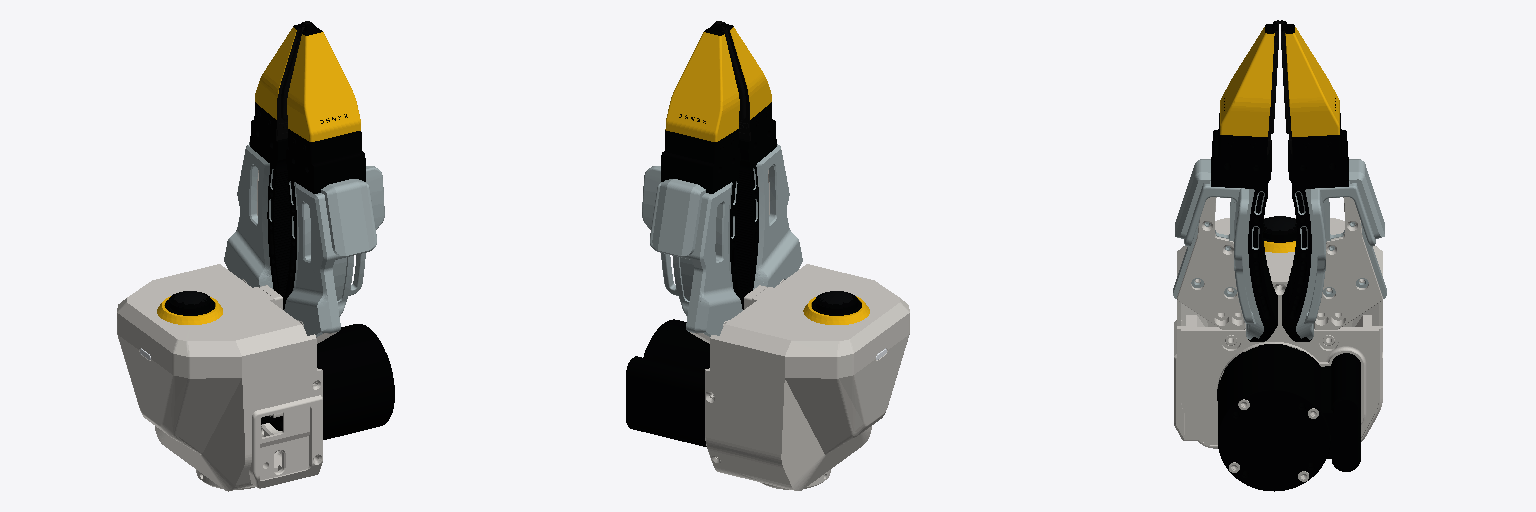
The robot description file, URDF, robot "taccap_g1_slave_with_mount":
<robot name="taccap_g1_slave_with_mount">
  <!-- Generated by scripts/generate_models.py; edit Xacro/config sources instead. -->
  <material name="taccap_silver">
    <color rgba="0.82 0.81 0.79 1" />
  </material>
  <material name="taccap_cover">
    <color rgba="0.65 0.7 0.71 1" />
  </material>
  <material name="taccap_black">
    <color rgba="0.018 0.02 0.022 1" />
  </material>
  <material name="taccap_yellow">
    <color rgba="0.95 0.72 0.07 1" />
  </material>
  <material name="taccap_gel">
    <color rgba="0.055 0.055 0.055 1" />
  </material>
  <material name="taccap_lens">
    <color rgba="0.05 0.055 0.06 0.62" />
  </material>
  <material name="taccap_light">
    <color rgba="0.92 0.94 0.96 0.85" />
  </material>
  <link name="taccap_base_link">
    <inertial>
      <origin rpy="0 0 0" xyz="0.00055404 -0.0011065 0.03389788000000001" />
      <mass value="0.153" />
      <inertia ixx="0.0001662522337781271" ixy="5.051220230199417e-07" ixz="1.023875307549503e-05" iyy="0.000126891433023779" iyz="-1.820980122271716e-06" izz="0.0001290344694980937" />
    </inertial>
    <visual name="body_link_visual_silver">
      <origin rpy="-0 -1.570796326794897 0" xyz="0.01975 -0.0060769 0.034023" />
      <geometry>
        <mesh filename="../meshes/body_link__silver.STL" />
      </geometry>
      <material name="taccap_silver" />
    </visual>
    <visual name="body_link_visual_black">
      <origin rpy="-0 -1.570796326794897 0" xyz="0.01975 -0.0060769 0.034023" />
      <geometry>
        <mesh filename="../meshes/body_link__black.STL" />
      </geometry>
      <material name="taccap_black" />
    </visual>
    <visual name="body_link_visual_yellow">
      <origin rpy="-0 -1.570796326794897 0" xyz="0.01975 -0.0060769 0.034023" />
      <geometry>
        <mesh filename="../meshes/body_link__yellow.STL" />
      </geometry>
      <material name="taccap_yellow" />
    </visual>
    <visual name="body_link_visual_light">
      <origin rpy="-0 -1.570796326794897 0" xyz="0.01975 -0.0060769 0.034023" />
      <geometry>
        <mesh filename="../meshes/body_link__light.STL" />
      </geometry>
      <material name="taccap_light" />
    </visual>
    <collision name="body_link_collision">
      <origin rpy="-0 -1.570796326794897 0" xyz="0.01975 -0.0060769 0.034023" />
      <geometry>
        <mesh filename="../meshes/collision/body_link.stl" />
      </geometry>
    </collision>
  </link>
  <link name="taccap_motor_link">
    <inertial>
      <origin rpy="0 0 0" xyz="0.03743085 -0.00109355 0.02554797" />
      <mass value="0.299" />
      <inertia ixx="2.530466922324684e-05" ixy="-2.027952739115101e-06" ixz="-1.239938363961379e-07" iyy="4.01613260249333e-05" iyz="-7.393526076882528e-07" izz="4.954026835181985e-05" />
    </inertial>
    <visual name="motor_link_visual_silver">
      <origin rpy="-0 -1.570796326794897 0" xyz="0.01975 -0.0060769 0.034023" />
      <geometry>
        <mesh filename="../meshes/motor_link__silver.STL" />
      </geometry>
      <material name="taccap_silver" />
    </visual>
    <visual name="motor_link_visual_black">
      <origin rpy="-0 -1.570796326794897 0" xyz="0.01975 -0.0060769 0.034023" />
      <geometry>
        <mesh filename="../meshes/motor_link__black.STL" />
      </geometry>
      <material name="taccap_black" />
    </visual>
    <collision name="motor_link_collision">
      <origin rpy="-0 -1.570796326794897 0" xyz="0.01975 -0.0060769 0.034023" />
      <geometry>
        <mesh filename="../meshes/collision/motor_link.stl" />
      </geometry>
    </collision>
  </link>
  <link name="taccap_left_finger_link">
    <inertial>
      <origin rpy="0 0 0" xyz="0.0140949482 -0.00330133312635219 0.04838757908594267" />
      <mass value="0.14" />
      <inertia ixx="0.0003065325738824327" ixy="1.304843016703693e-06" ixz="-6.577075277330767e-05" iyy="0.0003222085257195986" iyz="7.713878953415112e-06" izz="3.792830299796826e-05" />
    </inertial>
    <visual name="left_link_visual_silver">
      <origin rpy="1.570796326794894 -1.513048197635941 -1.570796326794894" xyz="1.776356839400251e-18 0 0" />
      <geometry>
        <mesh filename="../meshes/left_link__silver.STL" />
      </geometry>
      <material name="taccap_silver" />
    </visual>
    <visual name="left_link_visual_cover">
      <origin rpy="1.570796326794894 -1.513048197635941 -1.570796326794894" xyz="1.776356839400251e-18 0 0" />
      <geometry>
        <mesh filename="../meshes/left_link__cover.STL" />
      </geometry>
      <material name="taccap_cover" />
    </visual>
    <visual name="left_link_visual_black">
      <origin rpy="1.570796326794894 -1.513048197635941 -1.570796326794894" xyz="1.776356839400251e-18 0 0" />
      <geometry>
        <mesh filename="../meshes/left_link__black.STL" />
      </geometry>
      <material name="taccap_black" />
    </visual>
    <visual name="left_link_visual_yellow">
      <origin rpy="1.570796326794894 -1.513048197635941 -1.570796326794894" xyz="1.776356839400251e-18 0 0" />
      <geometry>
        <mesh filename="../meshes/left_link__yellow.STL" />
      </geometry>
      <material name="taccap_yellow" />
    </visual>
    <visual name="left_link_visual_gel">
      <origin rpy="1.570796326794894 -1.513048197635941 -1.570796326794894" xyz="1.776356839400251e-18 0 0" />
      <geometry>
        <mesh filename="../meshes/left_link__gel.STL" />
      </geometry>
      <material name="taccap_gel" />
    </visual>
    <visual name="left_link_visual_print">
      <origin rpy="1.570796326794894 -1.513048197635941 -1.570796326794894" xyz="1.776356839400251e-18 0 0" />
      <geometry>
        <mesh filename="../meshes/left_link_silkscreen.STL" />
      </geometry>
      <material name="taccap_black" />
    </visual>
    <collision name="left_link_collision">
      <origin rpy="1.570796326794894 -1.513048197635941 -1.570796326794894" xyz="1.776356839400251e-18 0 0" />
      <geometry>
        <mesh filename="../meshes/collision/left_link.stl" />
      </geometry>
    </collision>
  </link>
  <link name="taccap_right_finger_link">
    <inertial>
      <origin rpy="0 0 0" xyz="0.0140399882 0.003278948264701973 0.04829841241419621" />
      <mass value="0.14" />
      <inertia ixx="0.0003063018651248454" ixy="-1.332880396949135e-06" ixz="-6.566639014047093e-05" iyy="0.0003219105627972025" iyz="-7.90572760751648e-06" izz="3.79806639779513e-05" />
    </inertial>
    <visual name="right_link_visual_silver">
      <origin rpy="-1.570796326794894 -1.513048197635941 1.570796326794894" xyz="1.776356839400251e-18 0 0" />
      <geometry>
        <mesh filename="../meshes/right_link__silver.STL" />
      </geometry>
      <material name="taccap_silver" />
    </visual>
    <visual name="right_link_visual_cover">
      <origin rpy="-1.570796326794894 -1.513048197635941 1.570796326794894" xyz="1.776356839400251e-18 0 0" />
      <geometry>
        <mesh filename="../meshes/right_link__cover.STL" />
      </geometry>
      <material name="taccap_cover" />
    </visual>
    <visual name="right_link_visual_black">
      <origin rpy="-1.570796326794894 -1.513048197635941 1.570796326794894" xyz="1.776356839400251e-18 0 0" />
      <geometry>
        <mesh filename="../meshes/right_link__black.STL" />
      </geometry>
      <material name="taccap_black" />
    </visual>
    <visual name="right_link_visual_yellow">
      <origin rpy="-1.570796326794894 -1.513048197635941 1.570796326794894" xyz="1.776356839400251e-18 0 0" />
      <geometry>
        <mesh filename="../meshes/right_link__yellow.STL" />
      </geometry>
      <material name="taccap_yellow" />
    </visual>
    <visual name="right_link_visual_gel">
      <origin rpy="-1.570796326794894 -1.513048197635941 1.570796326794894" xyz="1.776356839400251e-18 0 0" />
      <geometry>
        <mesh filename="../meshes/right_link__gel.STL" />
      </geometry>
      <material name="taccap_gel" />
    </visual>
    <visual name="right_link_visual_print">
      <origin rpy="-1.570796326794894 -1.513048197635941 1.570796326794894" xyz="1.776356839400251e-18 0 0" />
      <geometry>
        <mesh filename="../meshes/right_link_silkscreen.STL" />
      </geometry>
      <material name="taccap_black" />
    </visual>
    <collision name="right_link_collision">
      <origin rpy="-1.570796326794894 -1.513048197635941 1.570796326794894" xyz="1.776356839400251e-18 0 0" />
      <geometry>
        <mesh filename="../meshes/collision/right_link.stl" />
      </geometry>
    </collision>
  </link>
  <link name="taccap_camera_body_link">
    <inertial>
      <origin rpy="0 0 0" xyz="-0.02305604 9.135000000000001e-05 0.06677412000000001" />
      <mass value="0.018" />
      <inertia ixx="2.08279730304444e-06" ixy="2.468185608919793e-08" ixz="-6.715076777008704e-08" iyy="2.153388567352938e-06" iyz="1.990738215085462e-08" izz="1.83083202960262e-06" />
    </inertial>
    <visual name="camera_link_visual_black">
      <origin rpy="-0 -1.570796326794897 0" xyz="0.01975 -0.0060769 0.034023" />
      <geometry>
        <mesh filename="../meshes/camera_link__black.STL" />
      </geometry>
      <material name="taccap_black" />
    </visual>
    <visual name="camera_link_visual_lens">
      <origin rpy="-0 -1.570796326794897 0" xyz="0.01975 -0.0060769 0.034023" />
      <geometry>
        <mesh filename="../meshes/camera_link__lens.STL" />
      </geometry>
      <material name="taccap_lens" />
    </visual>
    <collision name="camera_link_collision">
      <origin rpy="-0 -1.570796326794897 0" xyz="0.01975 -0.0060769 0.034023" />
      <geometry>
        <mesh filename="../meshes/camera_link.STL" />
      </geometry>
    </collision>
  </link>
  <link name="taccap_mount_link">
    <inertial>
      <origin rpy="0 0 0" xyz="0 0 0.00489788" />
      <mass value="0.035" />
      <inertia ixx="8.044150799999998e-06" ixy="1.145205007058267e-21" ixz="0" iyy="8.044150800000001e-06" iyz="0" izz="1.52699406e-05" />
    </inertial>
    <visual name="flange_link_visual_cover">
      <origin rpy="-0 -1.570796326794897 0" xyz="-3.552713678800501e-18 0 -7.105427357601002e-18" />
      <geometry>
        <mesh filename="../meshes/flange_link__cover.STL" />
      </geometry>
      <material name="taccap_cover" />
    </visual>
    <collision name="flange_link_collision">
      <origin rpy="-0 -1.570796326794897 0" xyz="-3.552713678800501e-18 0 -7.105427357601002e-18" />
      <geometry>
        <mesh filename="../meshes/collision/flange_link.stl" />
      </geometry>
    </collision>
  </link>
  <link name="taccap_eef_link" />
  <link name="taccap_camera_link" />
  <link name="taccap_camera_optical_link" />
  <joint name="taccap_mount_joint" type="fixed">
    <parent link="taccap_mount_link" />
    <child link="taccap_base_link" />
    <origin rpy="0 0 0" xyz="0 0 0.012" />
  </joint>
  <joint name="taccap_left_finger_joint" type="revolute">
    <parent link="taccap_base_link" />
    <child link="taccap_left_finger_link" />
    <origin rpy="0 0 0" xyz="0.0120336718 0.0199500106 0.0484999712" />
    <axis xyz="1 0 0" />
    <limit effort="1.1" lower="-0.5047492196767601" upper="0" velocity="1" />
    <dynamics damping="0.08" friction="0.01" />
    <mimic joint="taccap_right_finger_joint" multiplier="-1" offset="0" />
  </joint>
  <joint name="taccap_right_finger_joint" type="revolute">
    <parent link="taccap_base_link" />
    <child link="taccap_right_finger_link" />
    <origin rpy="0 0 0" xyz="0.0120336718 -0.0199499894 0.0484999712" />
    <axis xyz="1 0 0" />
    <limit effort="1.1" lower="0" upper="0.5047492196767601" velocity="1" />
    <dynamics damping="0.08" friction="0.01" />
  </joint>
  <joint name="taccap_eef_joint" type="fixed">
    <parent link="taccap_base_link" />
    <child link="taccap_eef_link" />
    <origin rpy="0 0 0" xyz="0.036575 0 0.2009217" />
  </joint>
  <joint name="taccap_camera_joint" type="fixed">
    <parent link="taccap_base_link" />
    <child link="taccap_camera_link" />
    <origin rpy="0 0 0" xyz="-0.02275 0 0.06125" />
  </joint>
  <joint name="taccap_camera_optical_joint" type="fixed">
    <parent link="taccap_camera_link" />
    <child link="taccap_camera_optical_link" />
    <origin rpy="0 0 -1.5707963267948966" xyz="0 0 0" />
  </joint>
  <joint name="taccap_motor_joint" type="fixed">
    <parent link="taccap_base_link" />
    <child link="taccap_motor_link" />
    <origin rpy="0 0 0" xyz="0 0 0" />
  </joint>
  <joint name="taccap_camera_body_joint" type="fixed">
    <parent link="taccap_base_link" />
    <child link="taccap_camera_body_link" />
    <origin rpy="0 0 0" xyz="0 0 0" />
  </joint>
</robot>

--- Facts derived from the render (not from the file) ---
Views: 3 orthographic renders of the robot side by side, from view 1: azimuth 30°, elevation 25°; view 2: azimuth 150°, elevation 25°; view 3: azimuth 270°, elevation 25°.
Model taccap_g1_slave_with_mount with 9 links and 8 joints (2 revolute, 6 fixed), rooted at taccap_mount_link, posed every joint at zero.
Visible links, largest first — view 1: taccap_base_link, taccap_right_finger_link, taccap_left_finger_link, taccap_motor_link, taccap_camera_body_link; view 2: taccap_base_link, taccap_left_finger_link, taccap_right_finger_link, taccap_motor_link, taccap_camera_body_link; view 3: taccap_left_finger_link, taccap_right_finger_link, taccap_motor_link, taccap_base_link, taccap_camera_body_link.
Link boxes in pixels (box(x1,y1,x2,y2)): taccap_base_link: box(117, 264, 322, 491); taccap_right_finger_link: box(269, 22, 384, 417); taccap_left_finger_link: box(224, 21, 309, 309); taccap_motor_link: box(261, 324, 394, 439); taccap_camera_body_link: box(165, 291, 214, 315); taccap_base_link: box(705, 264, 909, 490); taccap_left_finger_link: box(642, 22, 742, 343); taccap_right_finger_link: box(716, 21, 802, 309); taccap_motor_link: box(626, 319, 709, 446); taccap_camera_body_link: box(812, 291, 861, 315); taccap_left_finger_link: box(1280, 20, 1386, 341); taccap_right_finger_link: box(1173, 20, 1279, 341); taccap_motor_link: box(1218, 345, 1360, 491); taccap_base_link: box(1174, 218, 1382, 448); taccap_camera_body_link: box(1263, 216, 1296, 242).
Size in the robot's own frame: 0.1112 by 0.0873 by 0.2089 metres.
20 mesh visuals loaded from 21 distinct referenced files (20 binary STL); not drawn: 1 (reference not matched to a file when rendering).
